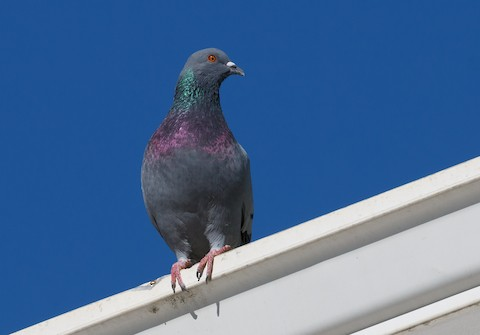pigeon: (130, 43, 273, 297)
